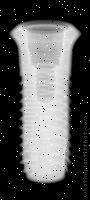Euroteknika: (0, 18, 83, 186)
